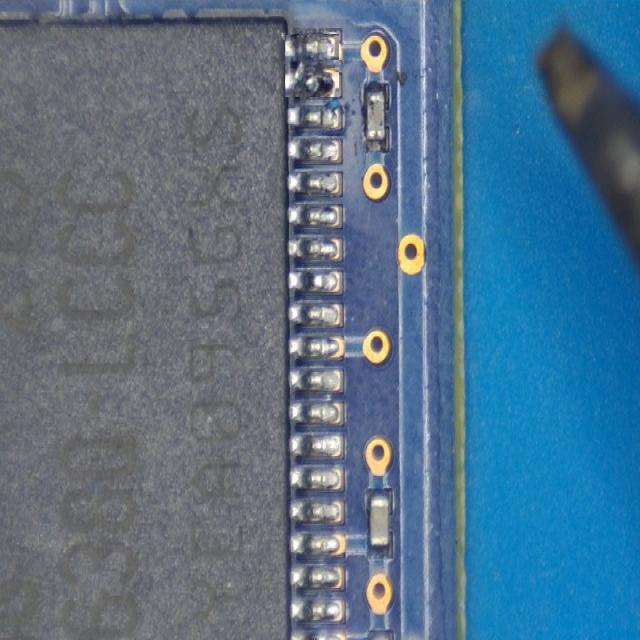Short_circuit: (286, 35, 337, 97)
